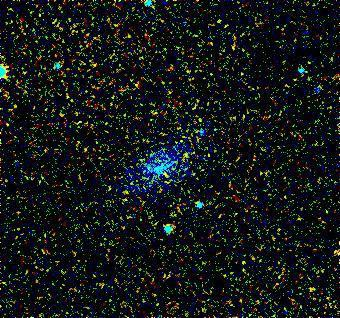star: (171, 140, 201, 170)
